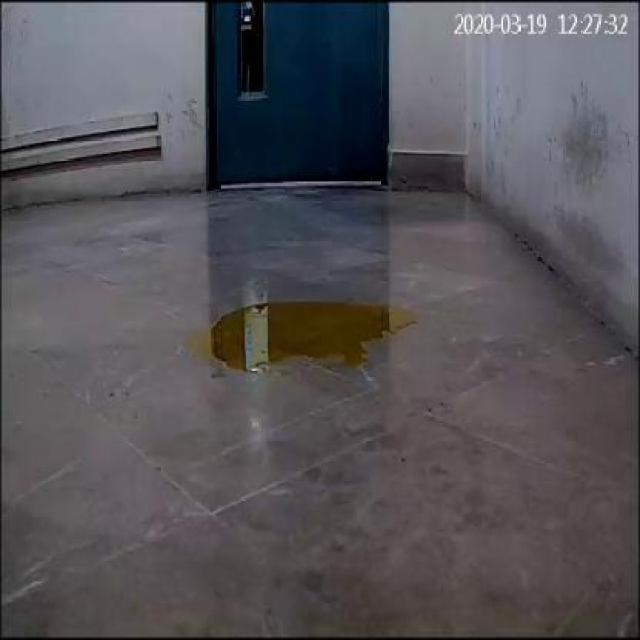spill: (194, 296, 414, 378)
